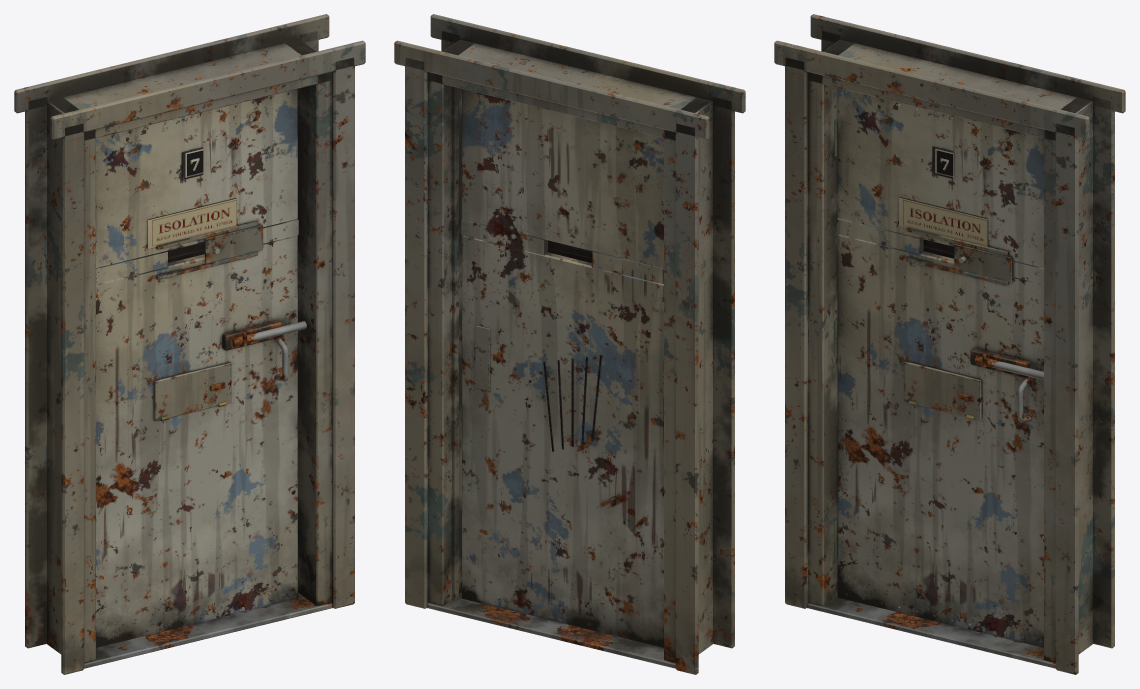
The model's file is IsolationDoor.fbx.
3 views of the same model, side by side, from view 1: azimuth 30°, elevation 25°; view 2: azimuth 150°, elevation 25°; view 3: azimuth 330°, elevation 25° (orthographic).
Visible parts, largest first — view 1: Door, Frame; view 2: Door, Frame; view 3: Door, Frame.
Boxes of the visible parts, box(x1,y1,x2,y2) form: Door: box(96, 89, 306, 647); Frame: box(14, 14, 365, 674); Door: box(461, 89, 663, 647); Frame: box(394, 14, 745, 674); Door: box(834, 88, 1043, 647); Frame: box(774, 14, 1125, 674).
Size of the model in its own units: 3.93 by 6.71 by 0.852.
1 material, 1 textured.
